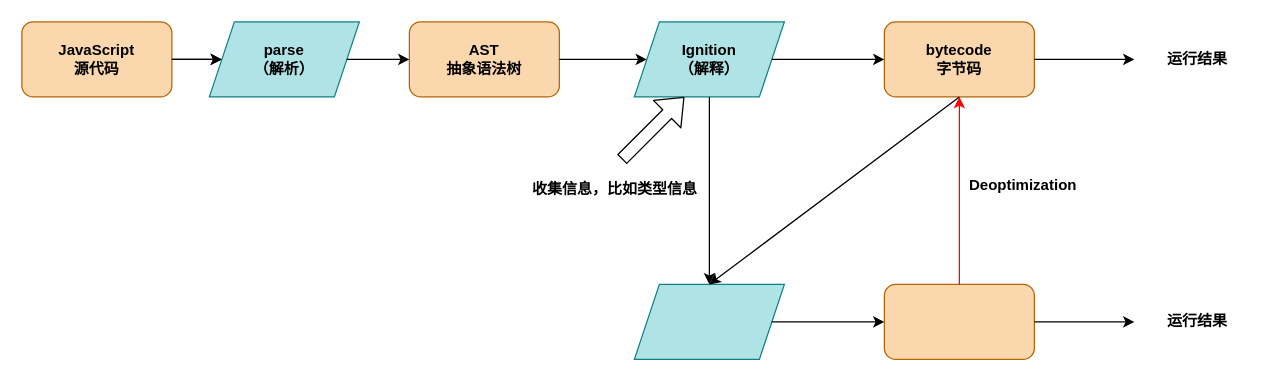
Image size: 1263x381. Some labels were removed from this diagram. The shapes that lost their labels are listed below. From the top down, each one's box as (x1, y1, x2, y2) in pixels, then its label:
(633, 283, 784, 359): TurboFan （编译）
(883, 283, 1034, 359): MachineCode 优化的机器码
